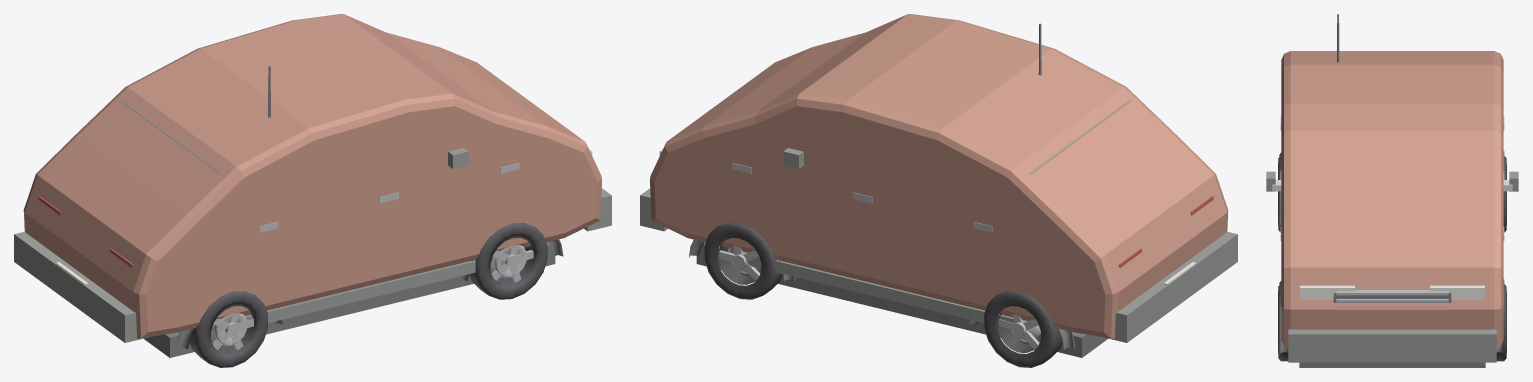
Rendered from car-c.glb.
3 views of the same model, side by side, from view 1: azimuth 30°, elevation 25°; view 2: azimuth 150°, elevation 25°; view 3: azimuth 270°, elevation 25° (orthographic). The views are drawn at different scales.
Parts seen in each view (by area): view 1: paintC, plastic, rubber, darkMetal, rim; view 2: paintC, plastic, rubber, darkMetal, rim; view 3: paintC, plastic, darkMetal, rim, light, rubber.
Boxes of the visible parts, x1,y1,x2,y2 form: paintC: (23, 14, 601, 338); plastic: (14, 148, 611, 342); rubber: (189, 223, 547, 367); darkMetal: (144, 66, 563, 357); rim: (212, 163, 533, 350); paintC: (650, 14, 1228, 338); plastic: (640, 148, 1237, 342); rubber: (704, 223, 1062, 367); darkMetal: (689, 23, 1107, 357); rim: (719, 163, 1040, 349); paintC: (1281, 51, 1503, 348); plastic: (1266, 171, 1518, 362); darkMetal: (1279, 14, 1504, 367); rim: (1280, 116, 1504, 307); light: (1300, 285, 1484, 299); rubber: (1278, 155, 1506, 361).
Bounding box in the file's own units: 4.04 × 2.08 × 1.93.
